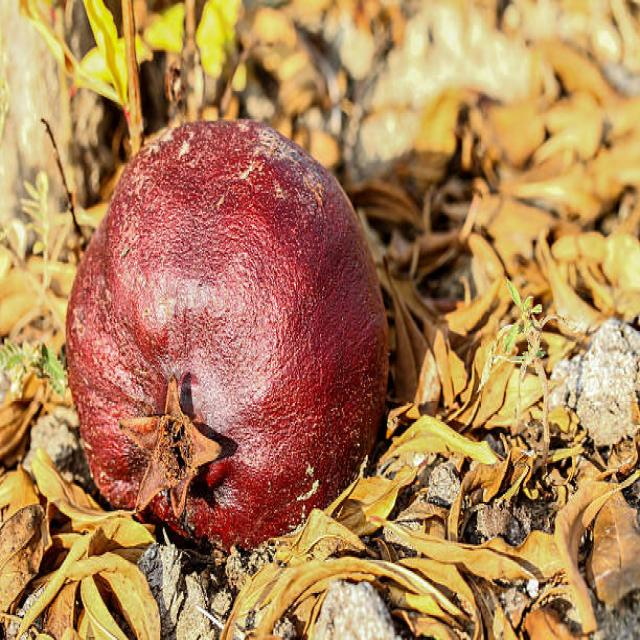overripe: (62, 111, 395, 537)
